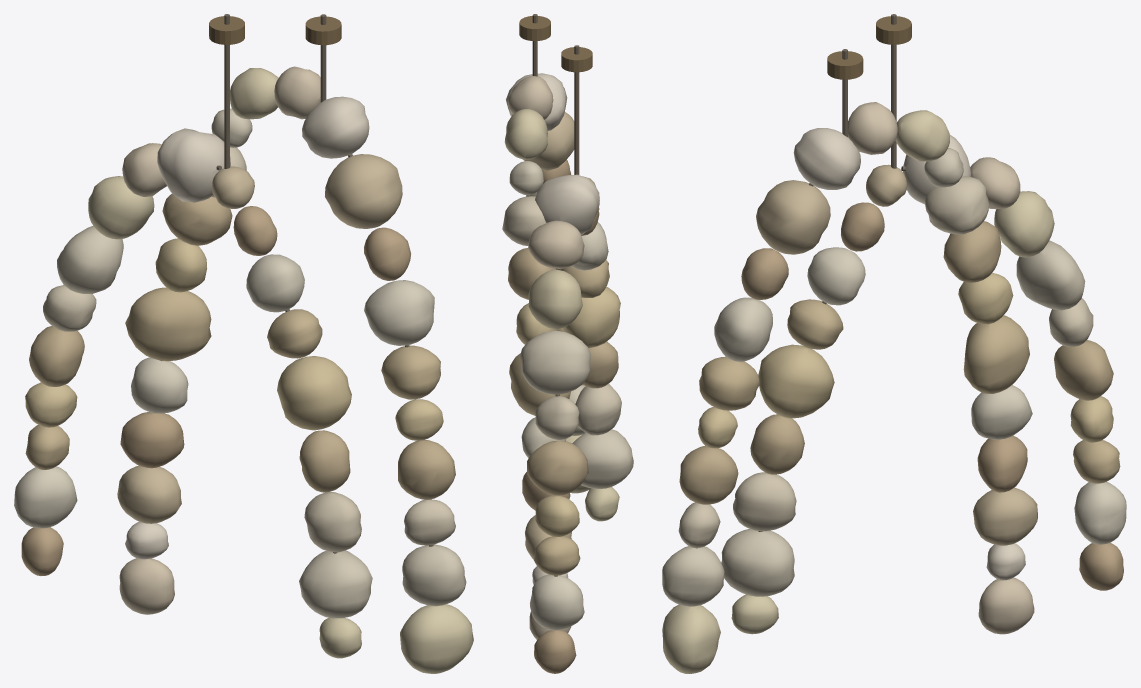
Rendered from crowns.glb.
The picture shows the model from 3 angles, left to right: view 1: azimuth 30°, elevation 25°; view 2: azimuth 150°, elevation 25°; view 3: azimuth 270°, elevation 25°; orthographic projection. The views are drawn at different scales.
Visible parts, largest first — view 1: crowns; view 2: crowns; view 3: crowns.
Part boxes in pixels (x1,y1,x2,y2): crowns: [14, 14, 473, 673]; crowns: [502, 14, 633, 673]; crowns: [662, 14, 1126, 673].
Size of the model in its own units: 0.5864 by 1.43 by 0.9547.
